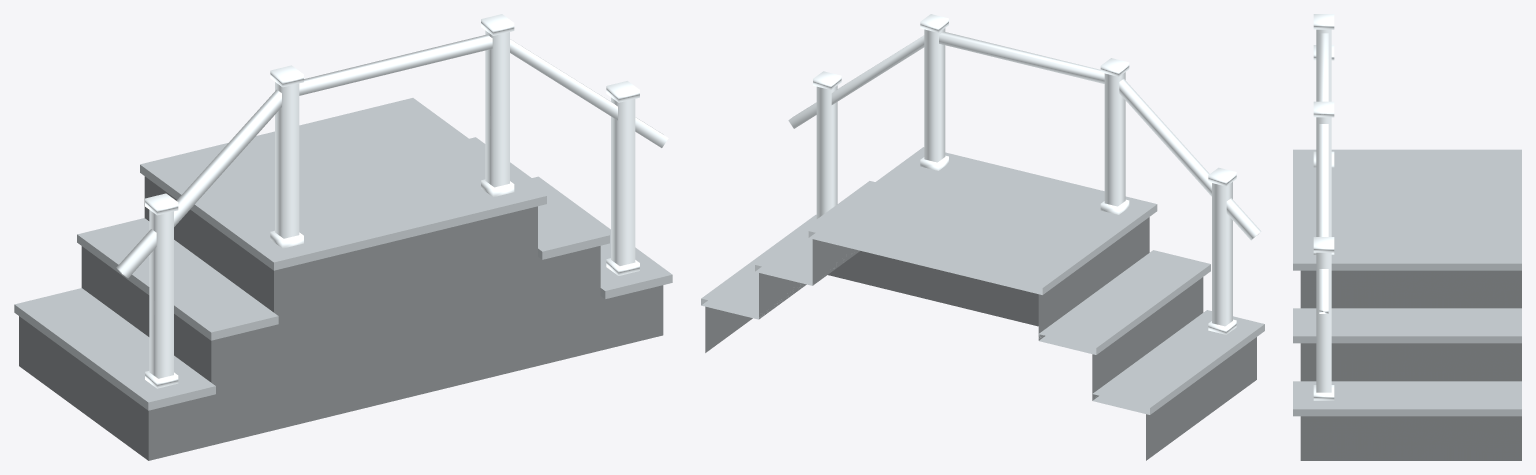
The model's file is Stairs_03.glb.
3 renders of one model, left to right at view 1: azimuth 30°, elevation 25°; view 2: azimuth 150°, elevation 25°; view 3: azimuth 270°, elevation 25°, orthographic. The views are drawn at different scales.
Parts seen in each view (by area): view 1: Stairs_03; view 2: Stairs_03; view 3: Stairs_03.
Part boxes in pixels (x1,y1,x2,y2): Stairs_03: (14,14,672,460); Stairs_03: (701,14,1264,460); Stairs_03: (1293,14,1521,460).
Bounding box in the file's own units: 3.49 × 2.08 × 1.48.
1 material, 1 textured.
